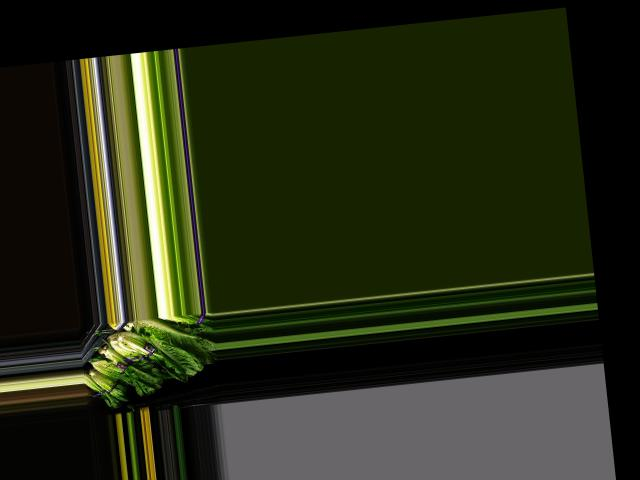lettuce: (134, 315, 216, 378)
